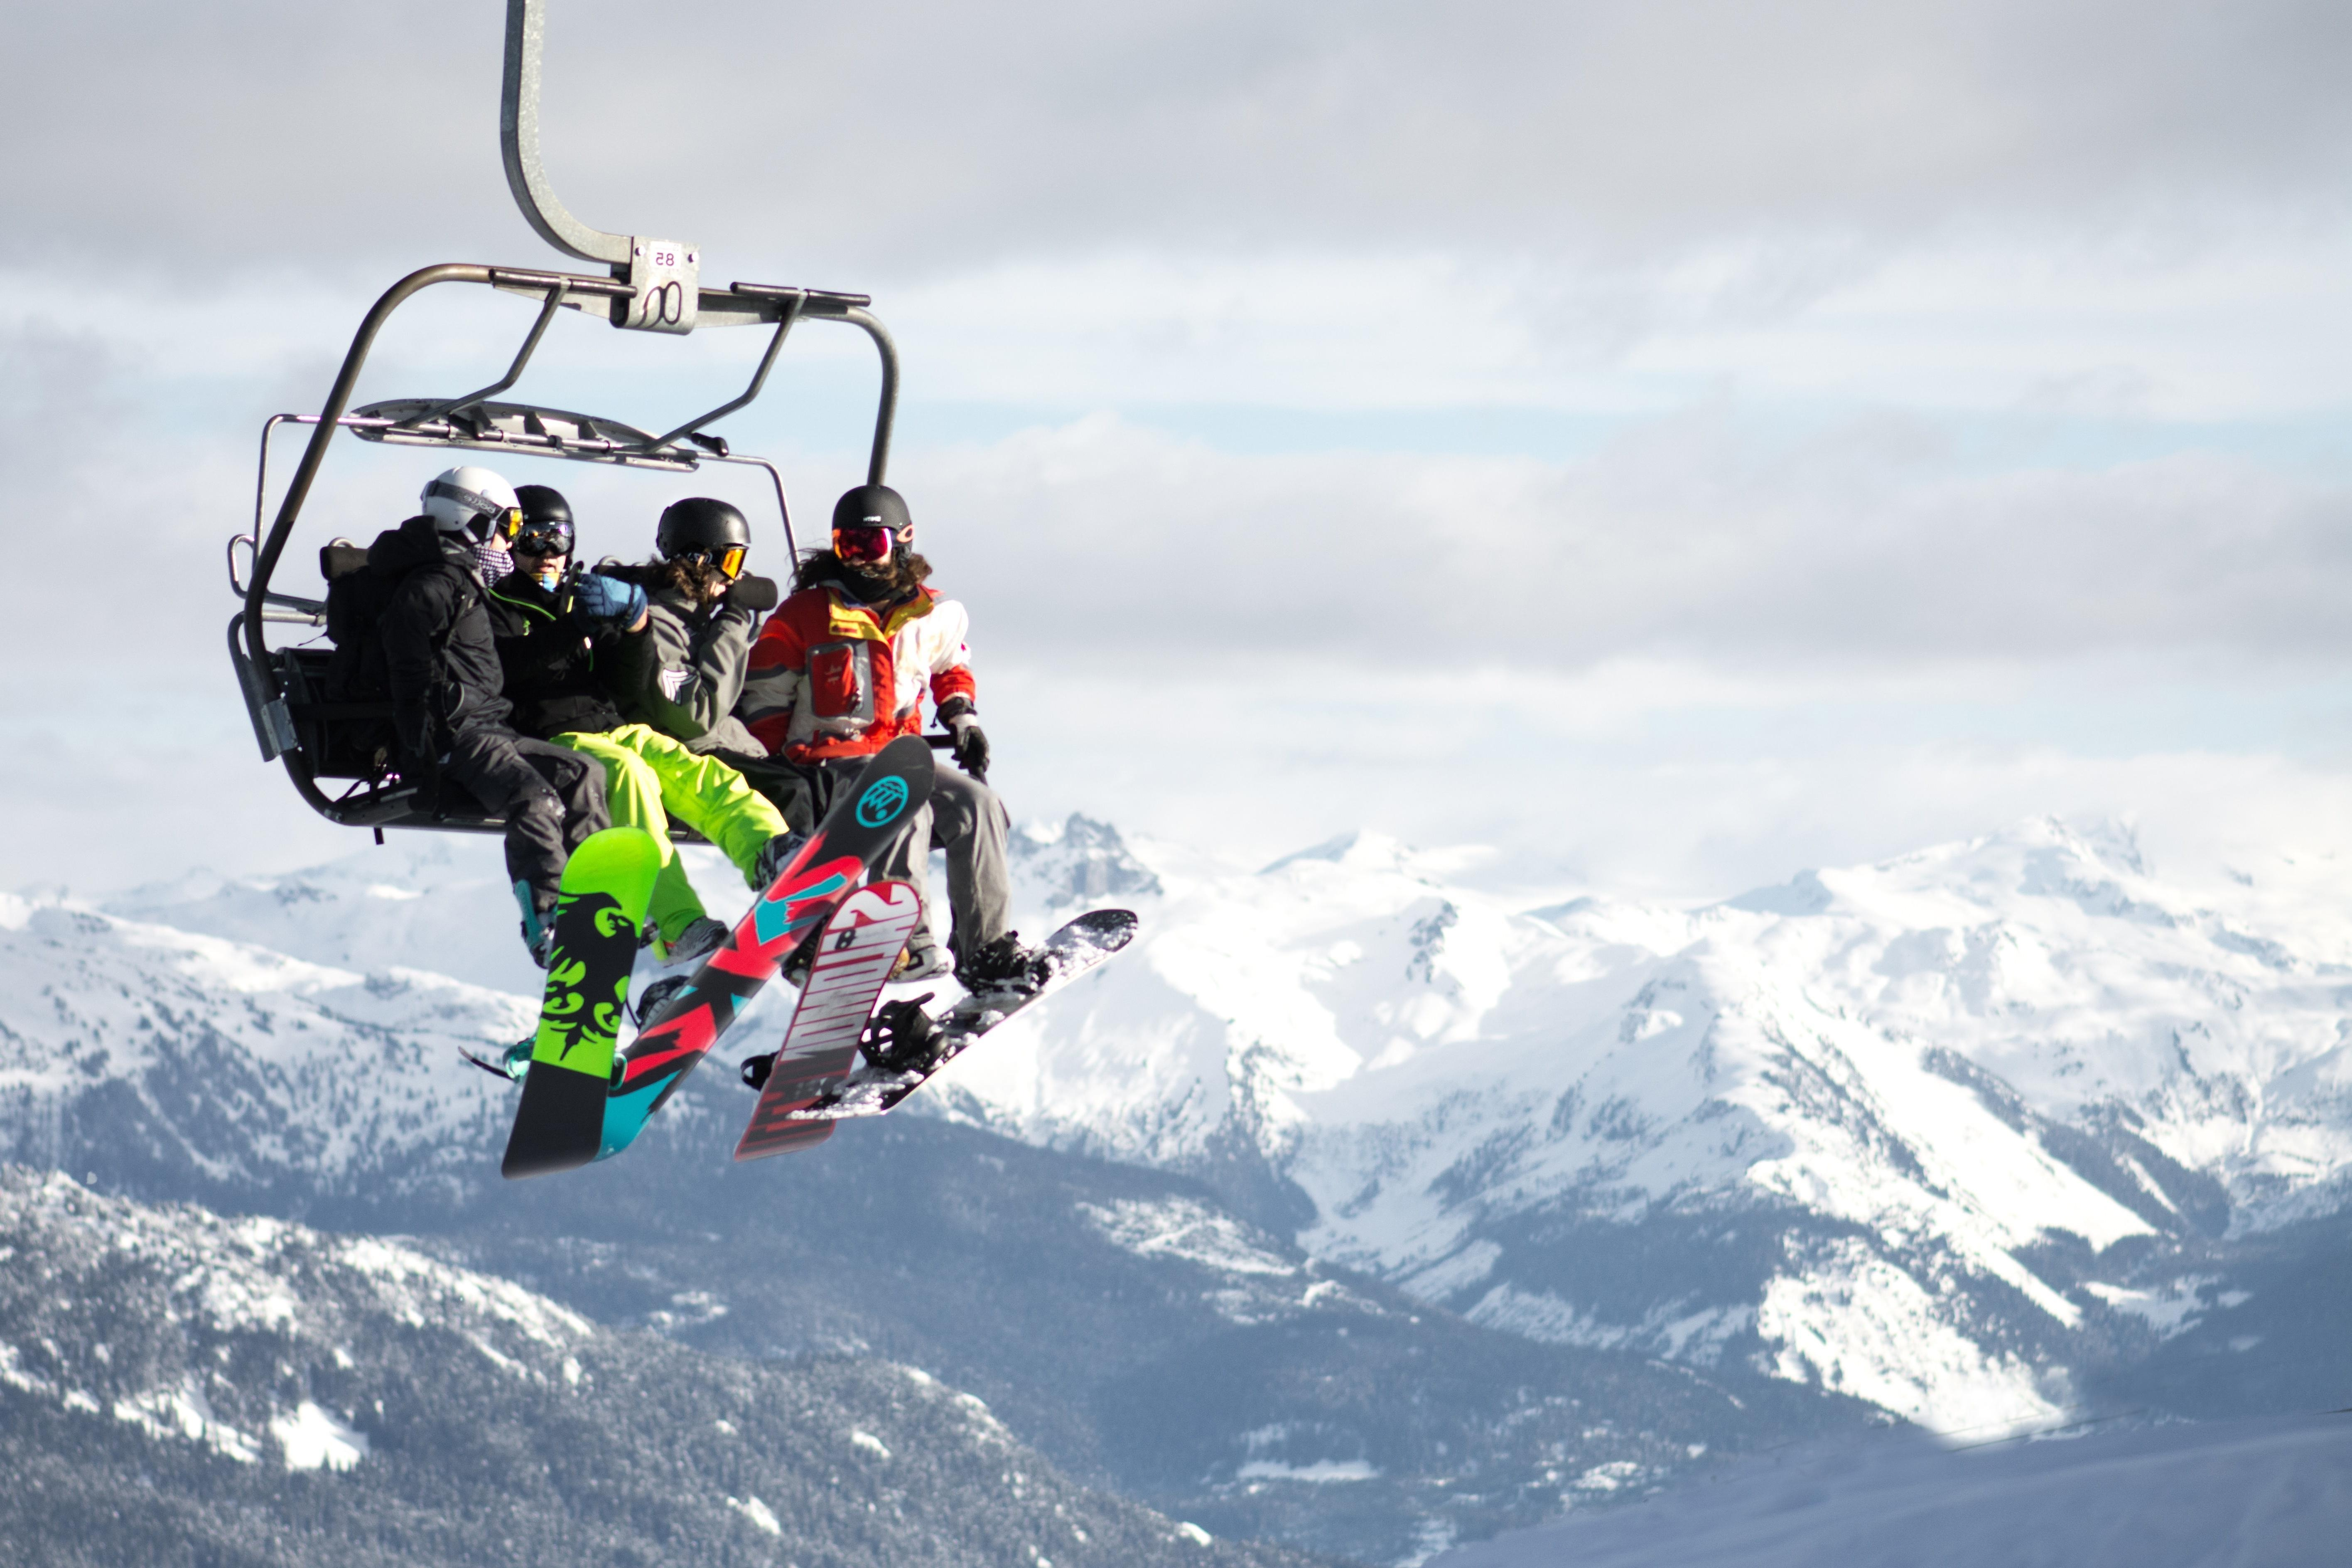Skis: (492, 812, 922, 1199)
